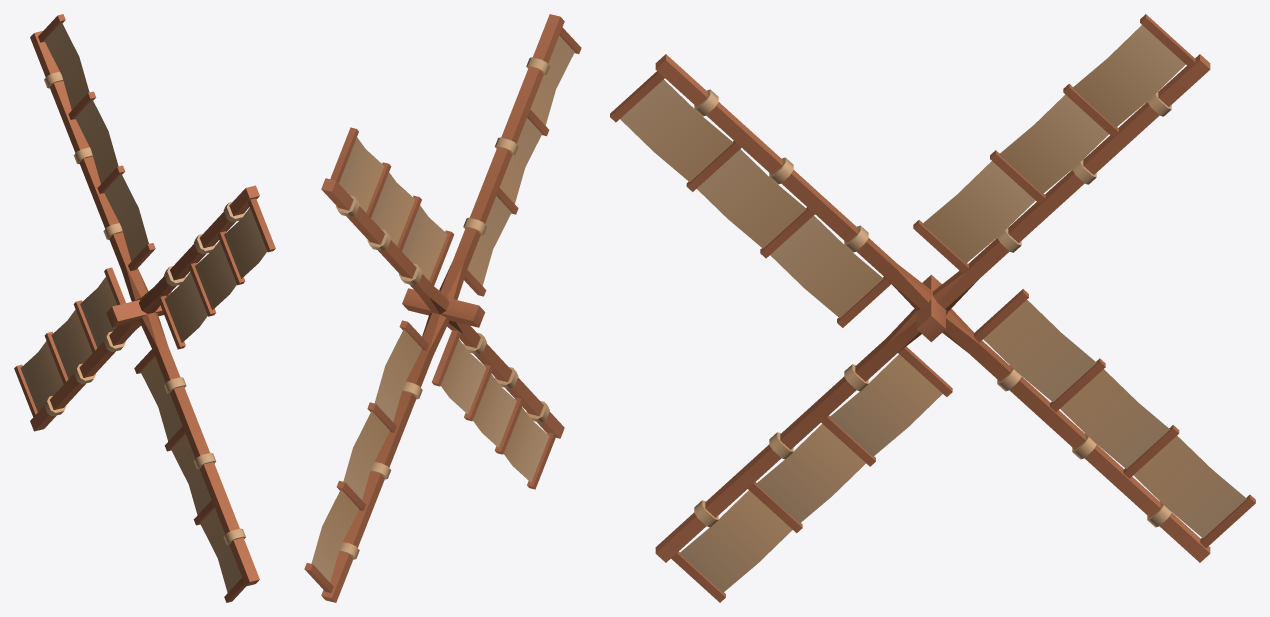
File: windmill_toy.glb
The picture shows the model from 3 angles, left to right: view 1: azimuth 30°, elevation 25°; view 2: azimuth 150°, elevation 25°; view 3: azimuth 270°, elevation 25°; orthographic projection. The views are drawn at different scales.
Visible parts, largest first — view 1: decor-windmill_toy; view 2: decor-windmill_toy; view 3: decor-windmill_toy.
Part boxes in pixels (<box>): decor-windmill_toy: <box>14,14,275,602</box>; decor-windmill_toy: <box>304,14,581,602</box>; decor-windmill_toy: <box>610,14,1255,602</box>.
Size of the model in its own units: 0.2722 by 1.8 by 1.8.
